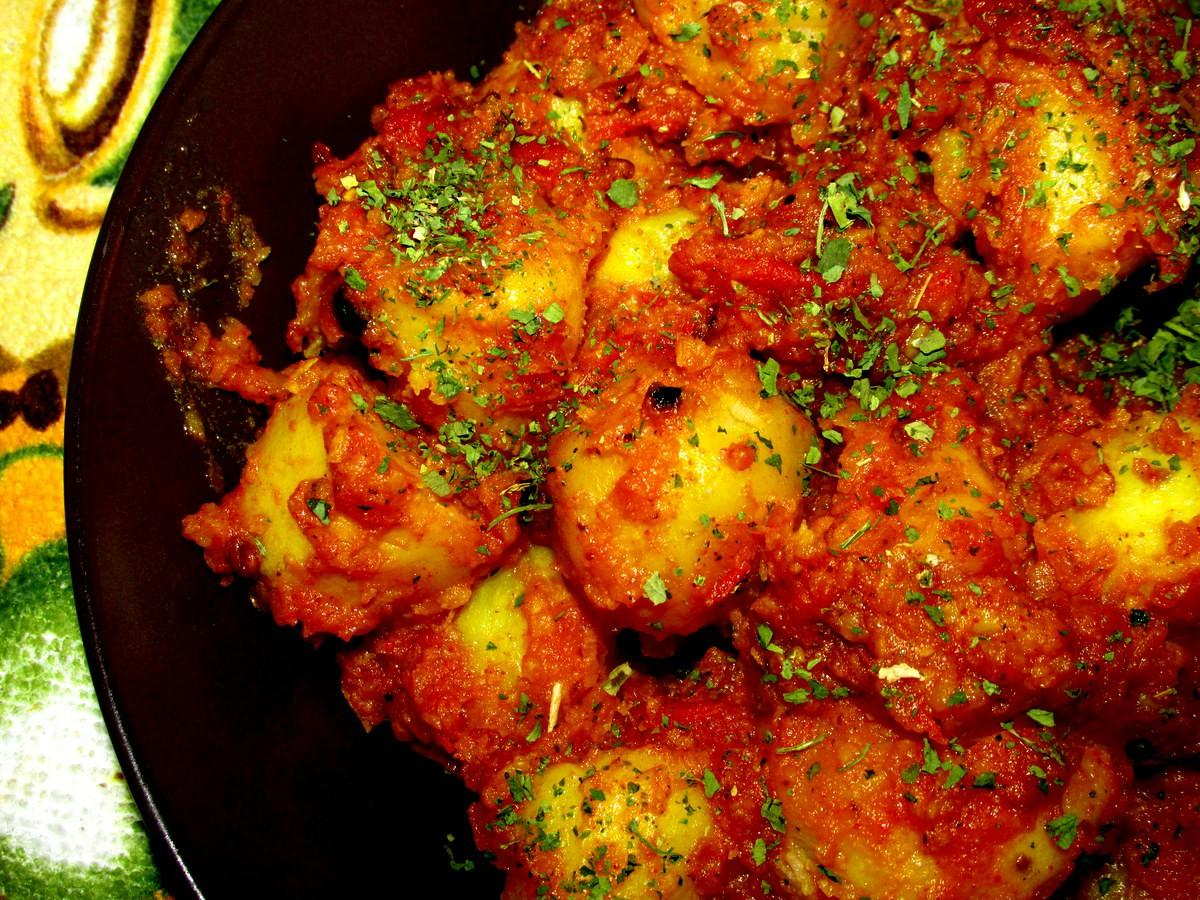DumAloo: (189, 0, 1200, 900)
